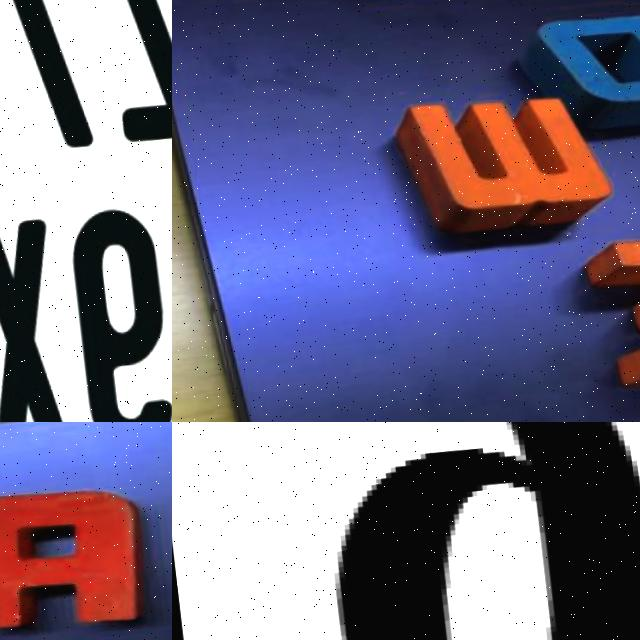6: (285, 422, 640, 640)
7: (0, 0, 104, 150)
9: (61, 197, 172, 422)
A: (0, 472, 156, 638)
D: (526, 0, 640, 135)
E: (579, 220, 640, 392)
W: (396, 85, 608, 244)
X: (0, 216, 78, 422)
Z: (92, 0, 172, 139)
